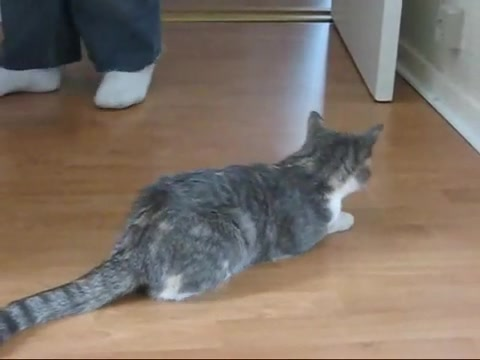cat: (1, 112, 386, 347)
